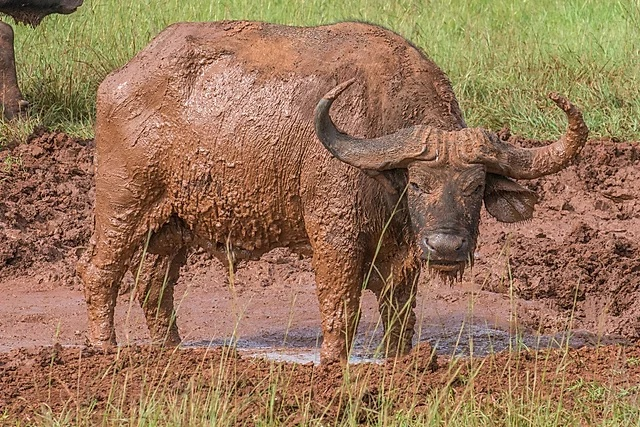buffalo: (77, 17, 591, 394)
